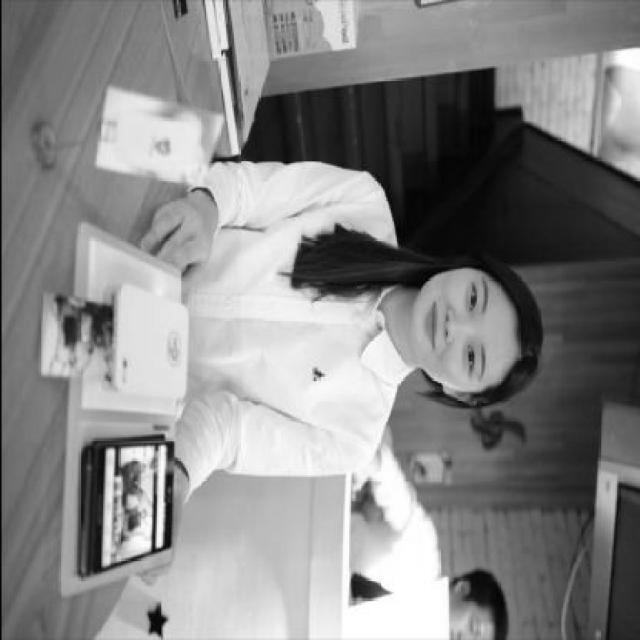fake: (78, 442, 174, 578)
real: (409, 269, 516, 389)
